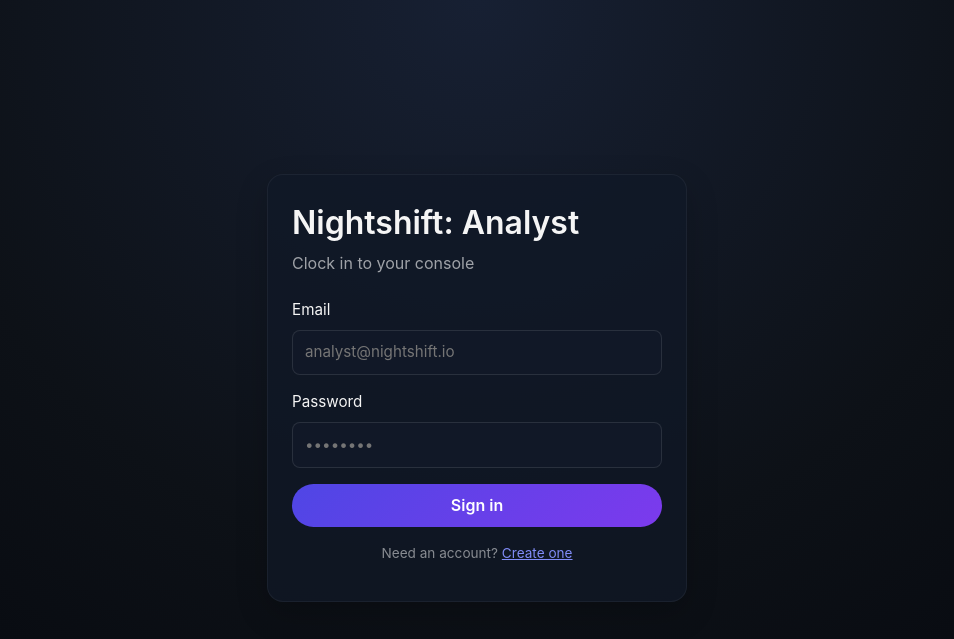
Test: LoginPage › translates API error codes into readable messages
In the field labelled "Email": (477, 353) [292,330,662,375], type "a@nightshift.dev"
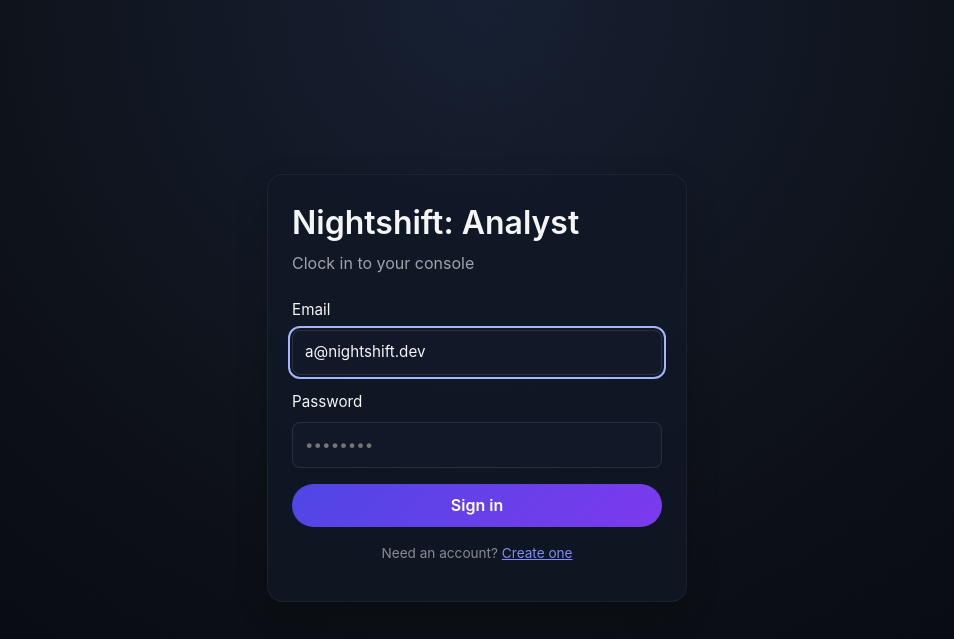
In the password field labelled "Password": (477, 445) [292,422,662,468], type "wrong-password"
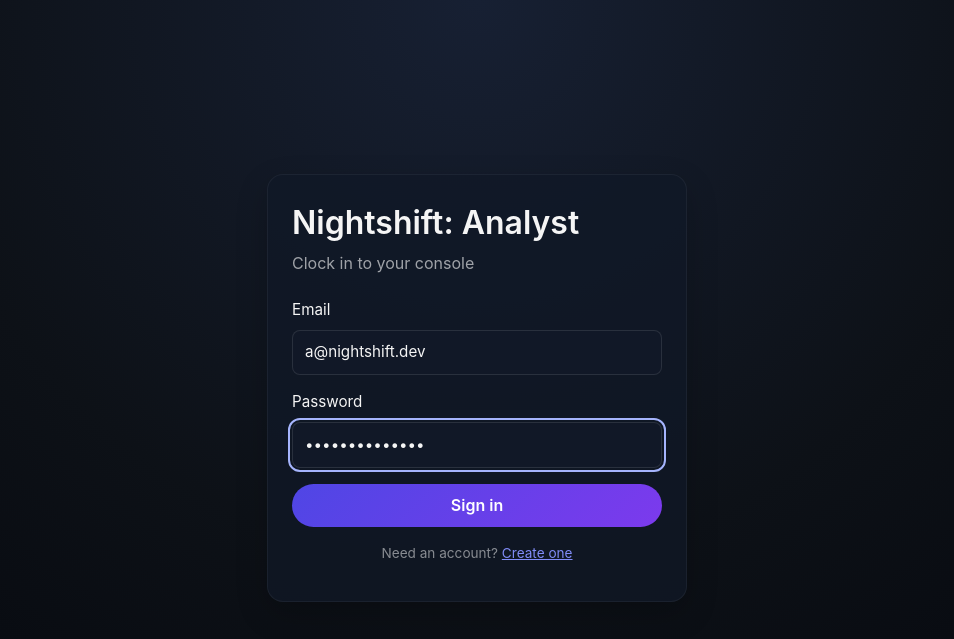
Click the button "Sign in": (477, 505) [292,484,662,527]
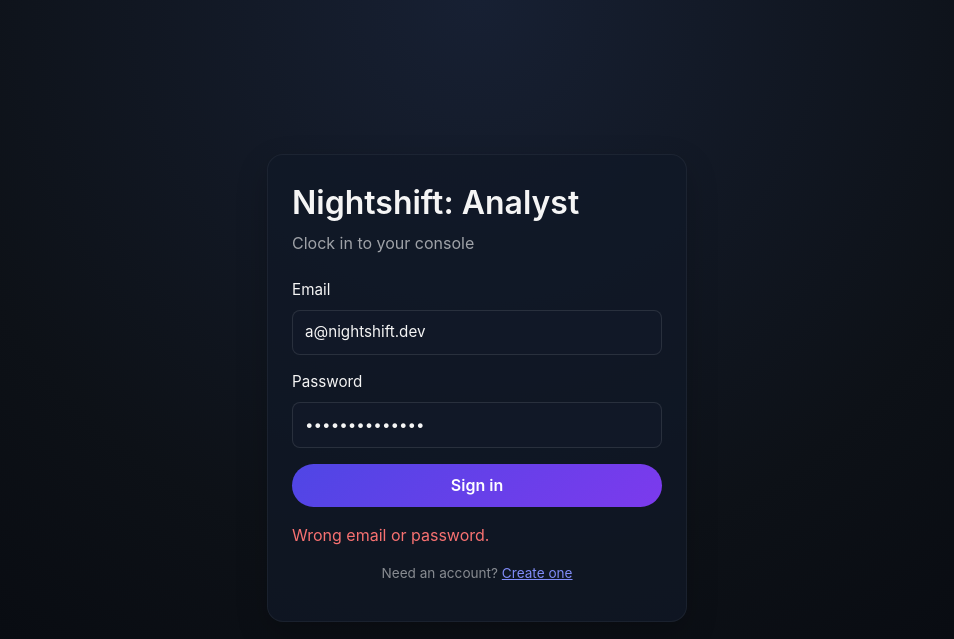
Check: the message reads "Wrong email or password.", box [292,525,489,545]
